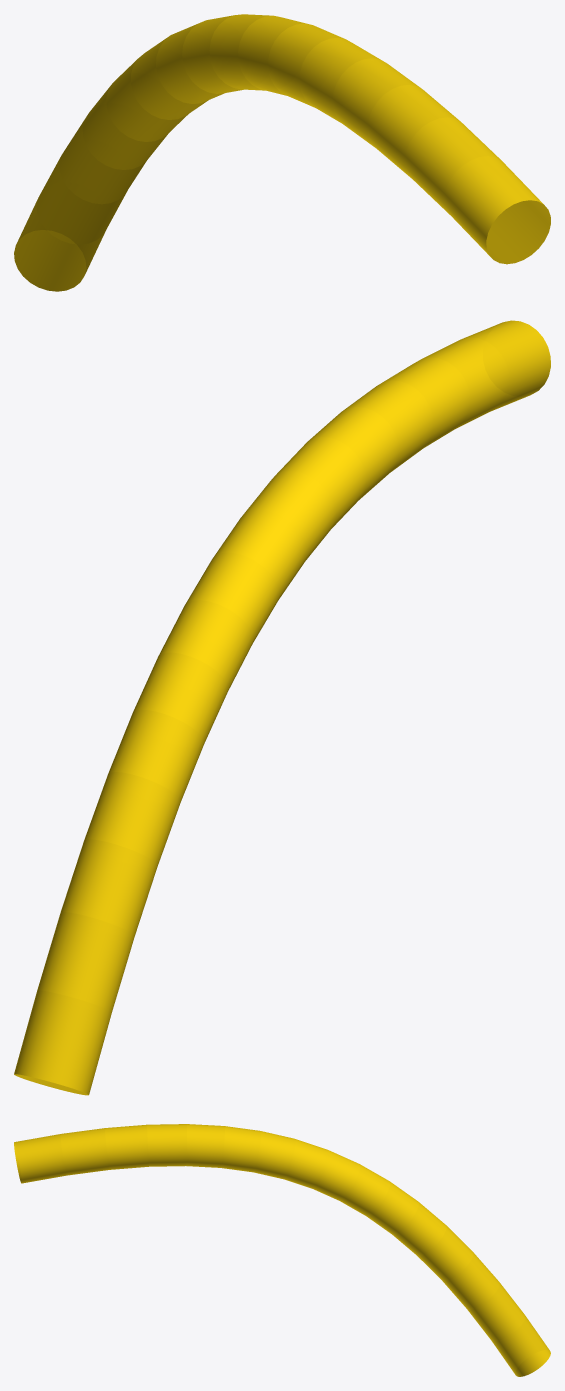
Rendered from Event_421278790_track_28.fbx.
3 renders of one model, top to bottom at view 1: azimuth 30°, elevation 25°; view 2: azimuth 150°, elevation 25°; view 3: azimuth 270°, elevation 25°, orthographic. The views are drawn at different scales.
Parts seen in each view (by area): view 1: Model; view 2: Model; view 3: Model.
Boxes of the visible parts, x1,y1,x2,y2 form: Model: [14, 14, 550, 291]; Model: [14, 320, 550, 1095]; Model: [14, 1124, 550, 1376].
Size of the model in its own units: 0.0461 by 0.2604 by 0.5081.
